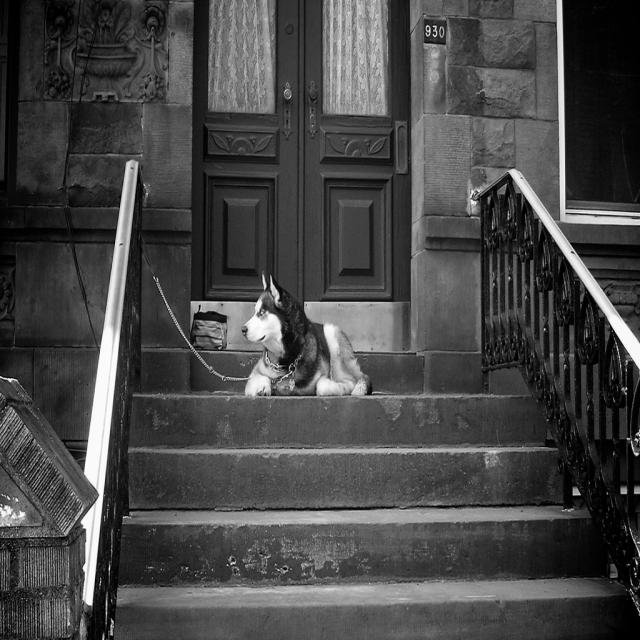Dog: (240, 270, 372, 397)
